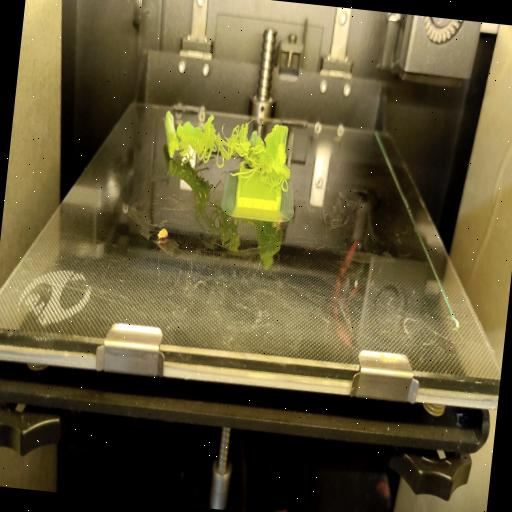spaghetti: (176, 111, 296, 194)
